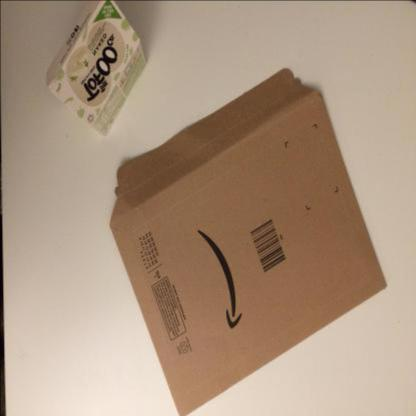Carton: (109, 68, 388, 416), (45, 0, 146, 137)
